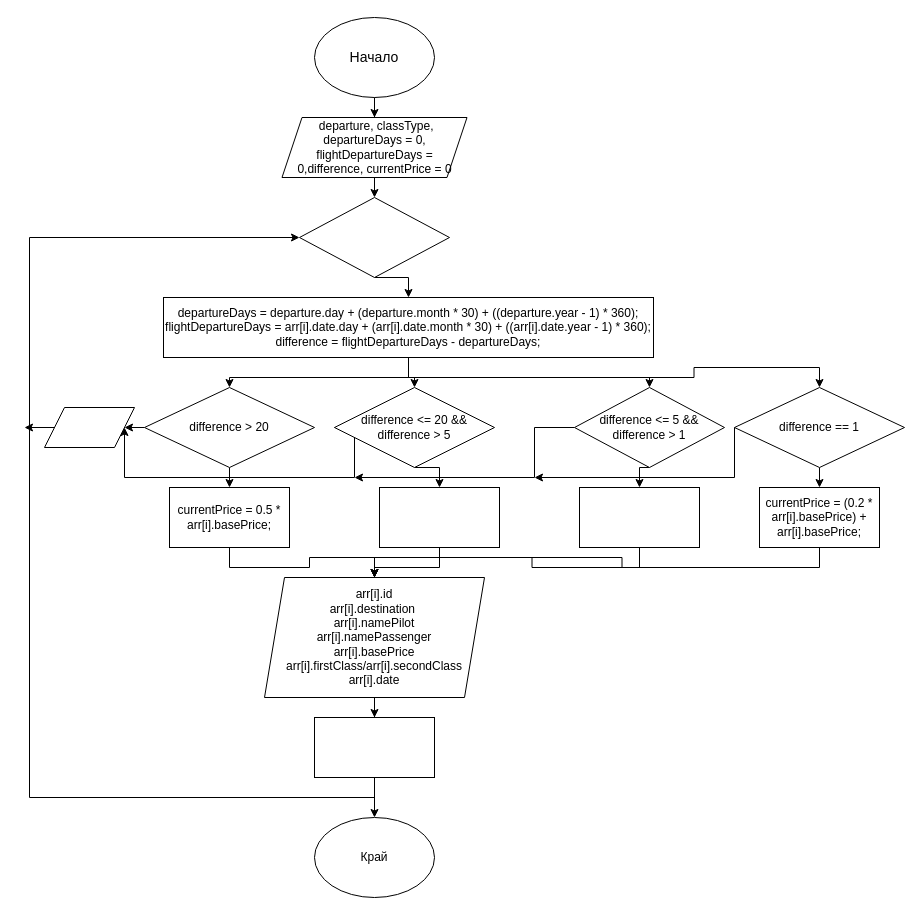
This 922x915 diagram has some shape labels left out. The box of each missing label's shape, as (x1, y1, x2, y2) in pixels:
currentPrice = 0.75 * arr[i].basePrice;: (378, 486, 500, 548)
currentPrice = arr[i].basePrice;: (578, 486, 700, 548)
i < n: (298, 196, 450, 278)
i++: (314, 716, 434, 778)
Message: (44, 406, 134, 448)
